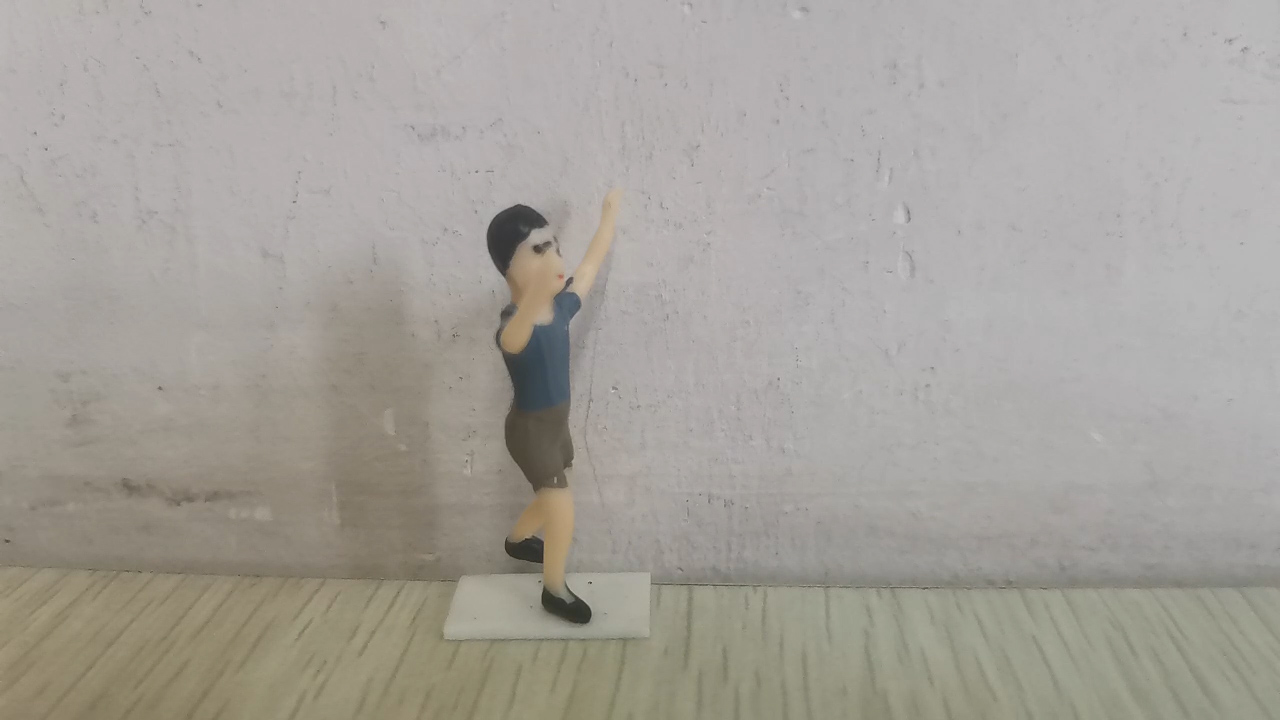person: (485, 185, 625, 626)
